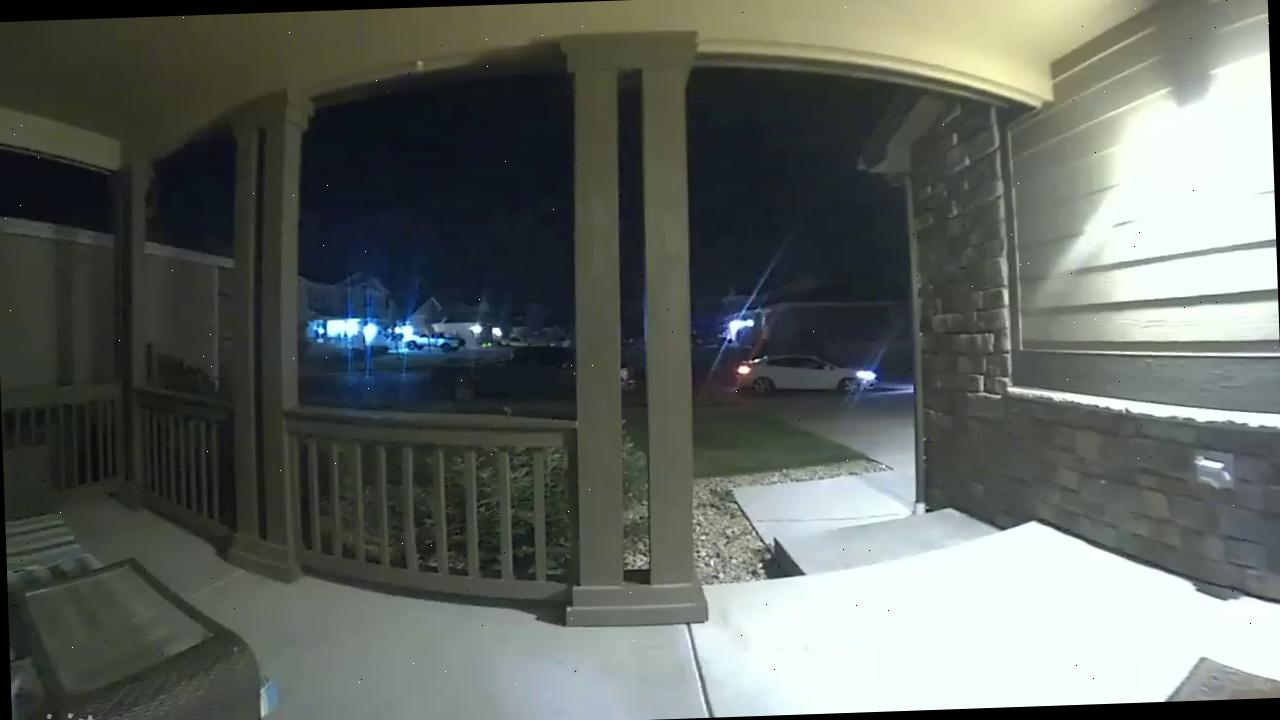suspicion: (431, 340, 642, 425), (721, 333, 890, 409), (386, 320, 464, 359)
